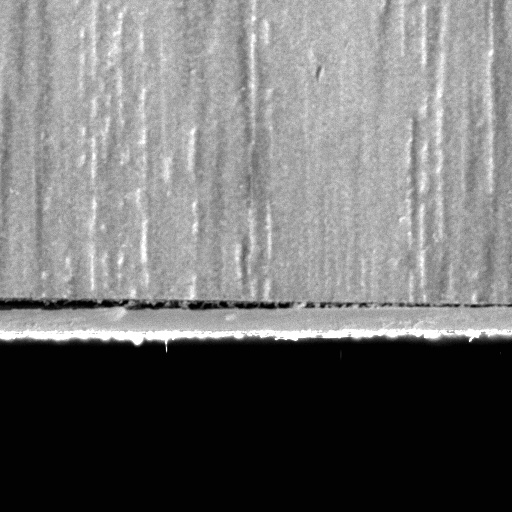jiaofeng: (316, 297, 511, 322)
kaijiao: (0, 291, 399, 348)
